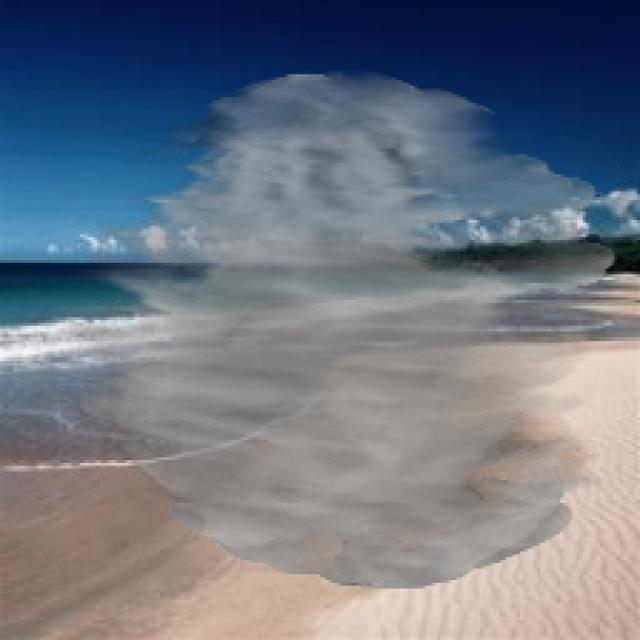smoke: (69, 71, 617, 588)
